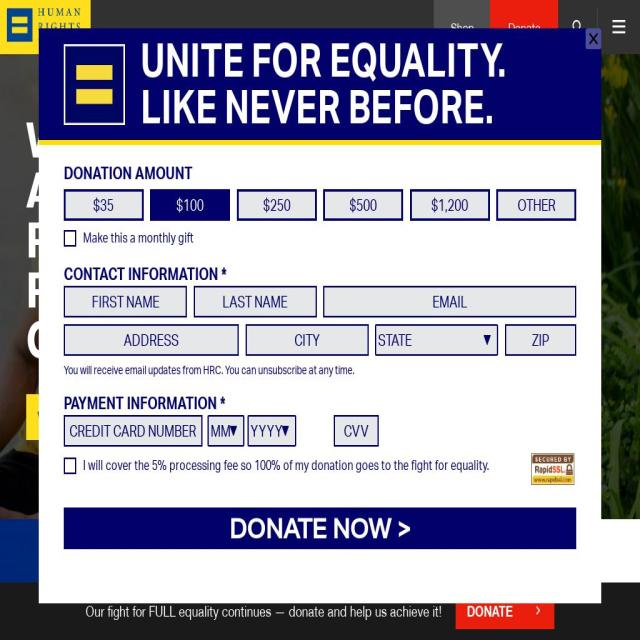button: (27, 394, 140, 440), (0, 0, 91, 54), (456, 592, 554, 630), (490, 1, 558, 54), (434, 1, 490, 54), (586, 28, 601, 50)
heading: (26, 110, 586, 371), (346, 591, 621, 640)
iframe: (39, 29, 601, 604)
text: (0, 518, 312, 639), (85, 602, 442, 620), (597, 0, 640, 54), (558, 0, 597, 54), (346, 549, 406, 576)
